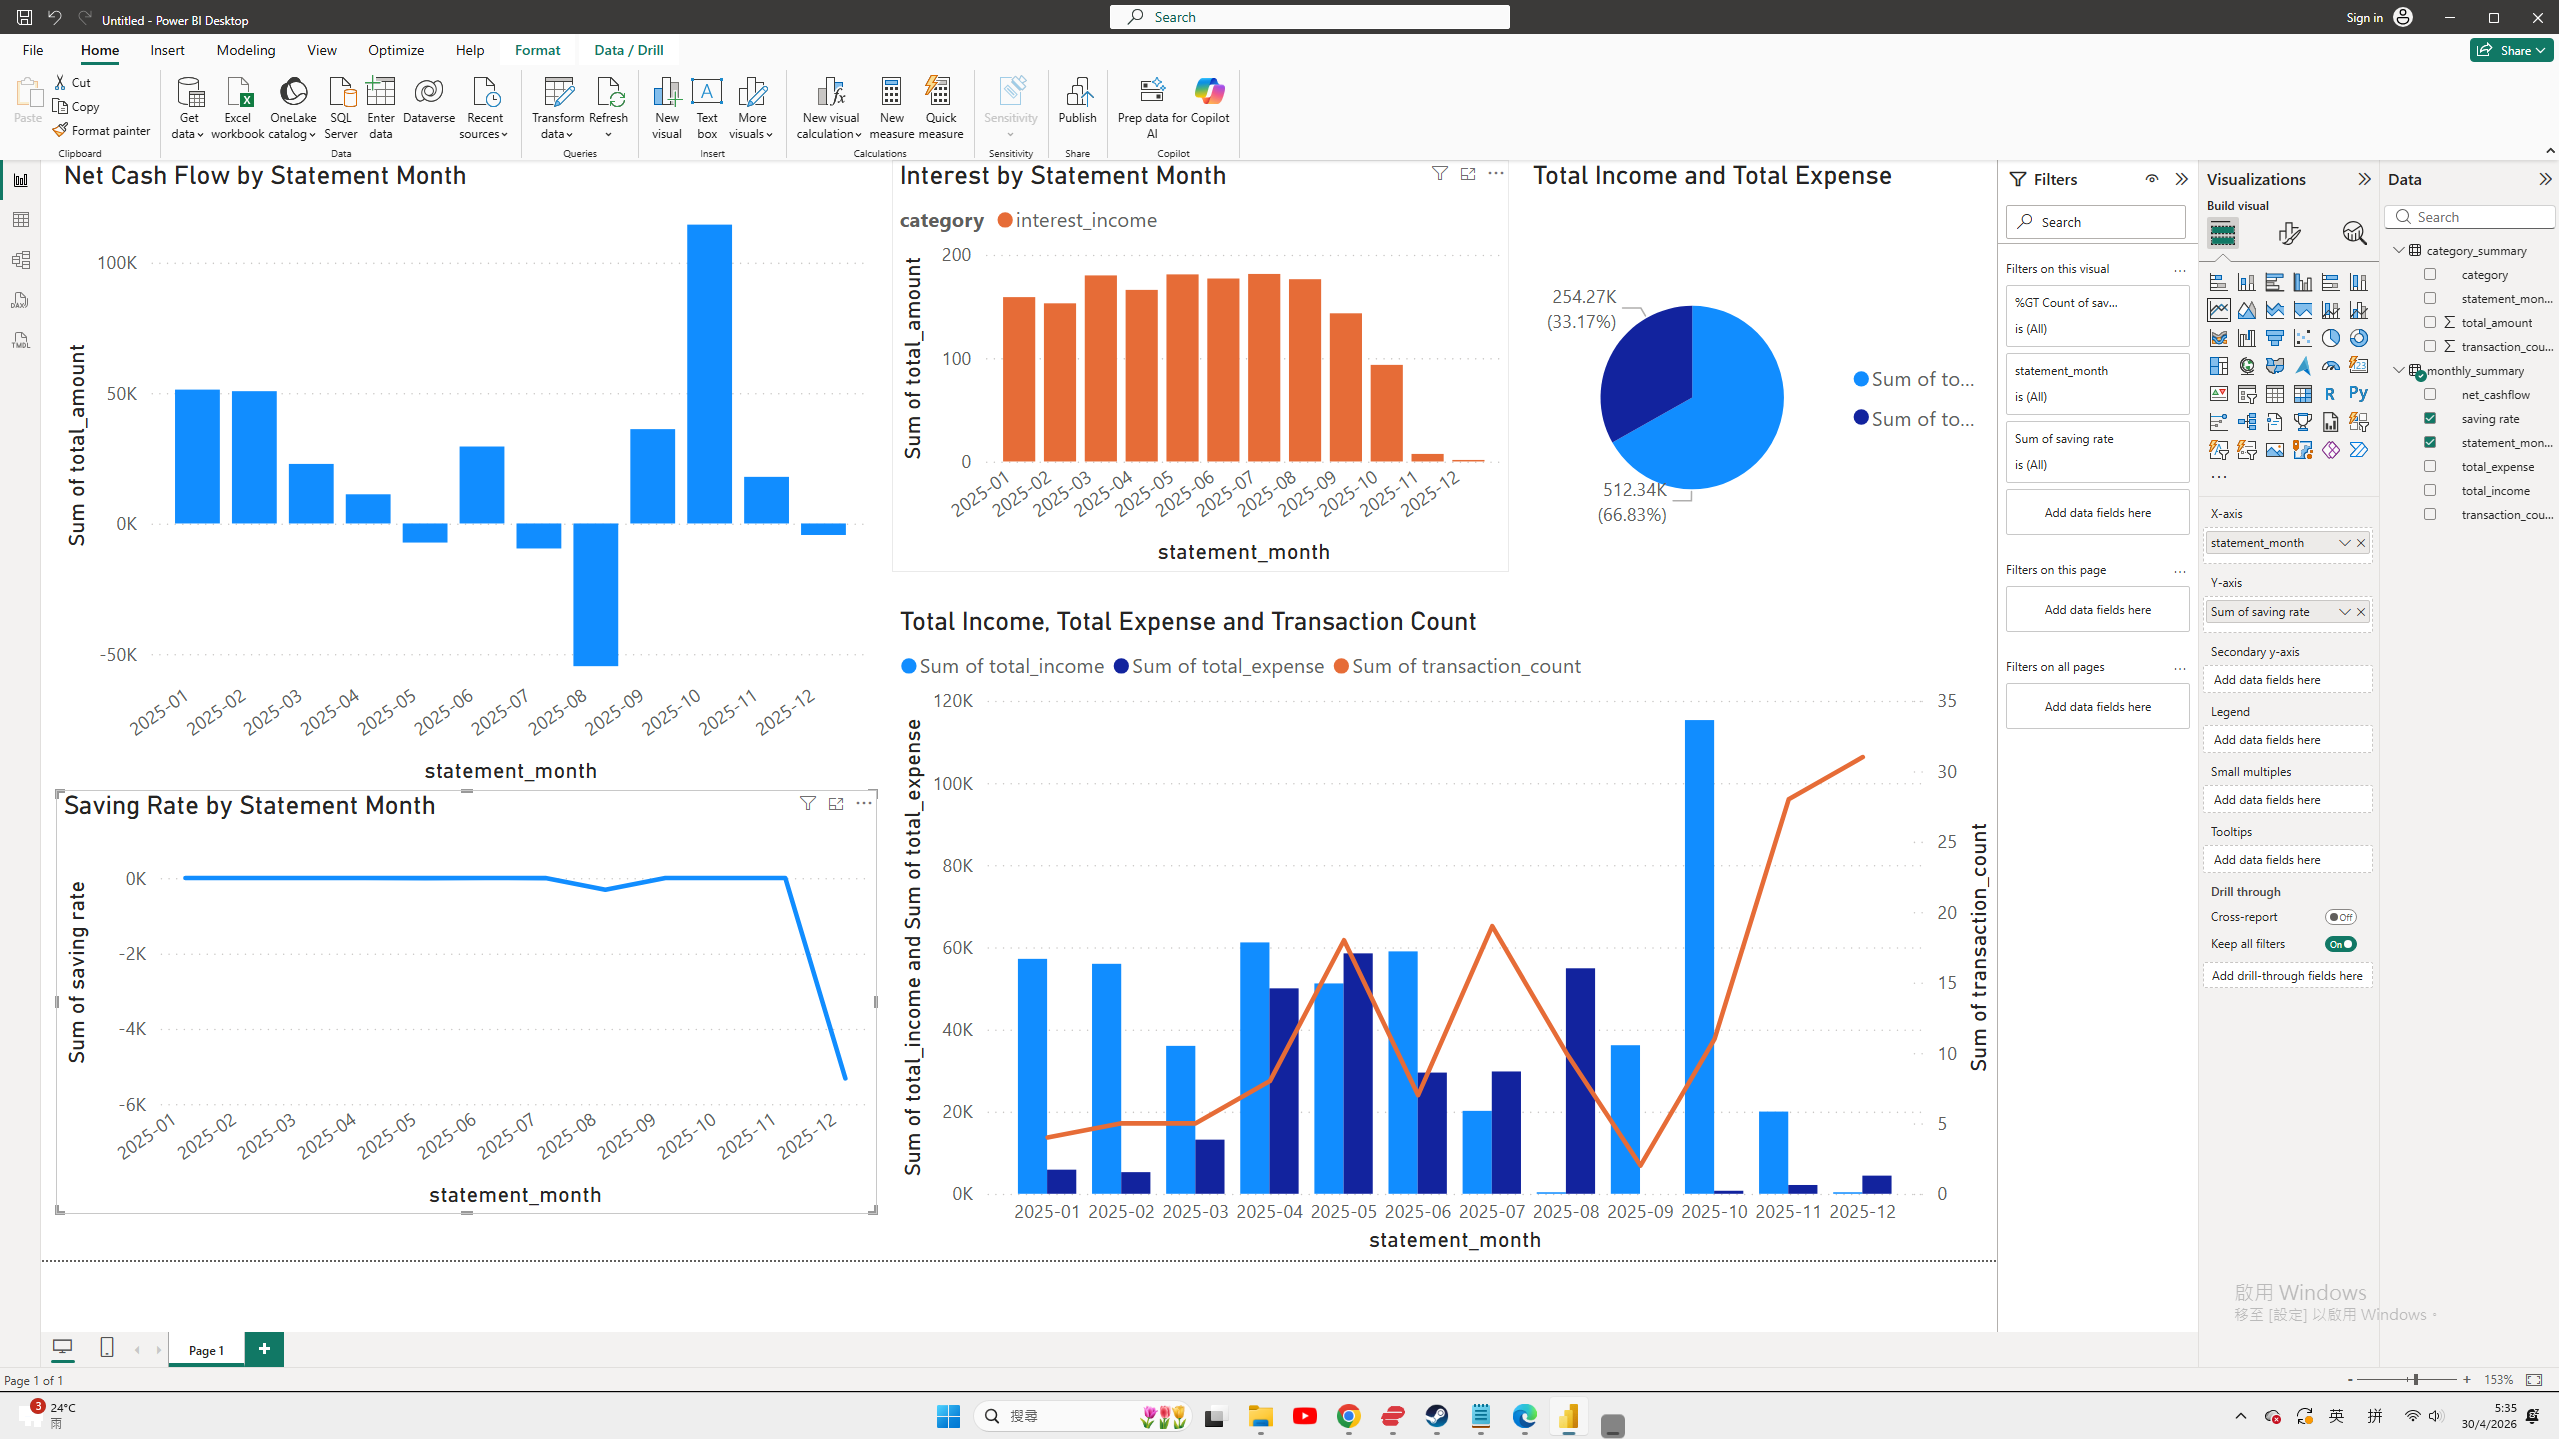

The dashboard page shown, as its layout file describes it:
{"tool":"powerbi","page":{"name":"Page 1","canvas":[1280,720],"ordinal":0},"visuals":[{"type":"columnChart","title":"Net Cash Flow by Statement Month","fields":{"Category":["category_summary.statement_month"],"Y":["Sum(category_summary.total_amount)"]},"box":[9.8,0,537.3,412.3],"z":0},{"type":"clusteredColumnChart","title":"Interest by Statement Month","fields":{"Category":["category_summary.statement_month"],"Y":["Sum(category_summary.total_amount)"],"Series":["category_summary.category"]},"box":[556.9,0,403.8,269.6],"z":2},{"type":"lineClusteredColumnComboChart","title":"Total Income, Total Expense and Transaction Count","fields":{"Category":["monthly_summary.statement_month"],"Y":["Sum(monthly_summary.total_income)","Sum(monthly_summary.total_expense)"],"Y2":["Sum(monthly_summary.transaction_count)"]},"box":[556.9,291.9,723.1,428],"z":3},{"type":"pieChart","title":"Total Income and Total Expense","fields":{"Y":["Sum(monthly_summary.total_income)","Sum(monthly_summary.total_expense)"]},"box":[971.1,0,308.9,291.9],"z":4},{"type":"lineChart","title":"Saving Rate by Statement Month","fields":{"Category":["monthly_summary.statement_month"],"Y":["Sum(monthly_summary.saving rate)"]},"box":[9.8,412.3,537.3,277.5],"z":5}]}

Visuals, with their boxes on the page's 1280x720 design canvas (x1, y1, x2, y2). These are canvas units, not pixel positions in the 2559x1439 screenshot, which may show the page scaled, cropped or inside an application window:
"Net Cash Flow by Statement Month" columnChart: (10,0,547,412)
"Interest by Statement Month" clusteredColumnChart: (557,0,961,270)
"Total Income, Total Expense and Transaction Count" lineClusteredColumnComboChart: (557,292,1280,720)
"Total Income and Total Expense" pieChart: (971,0,1280,292)
"Saving Rate by Statement Month" lineChart: (10,412,547,690)
